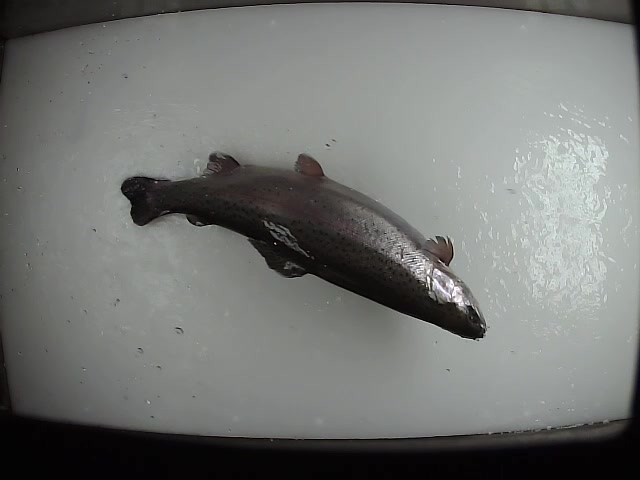Fish: (122, 152, 486, 339)
